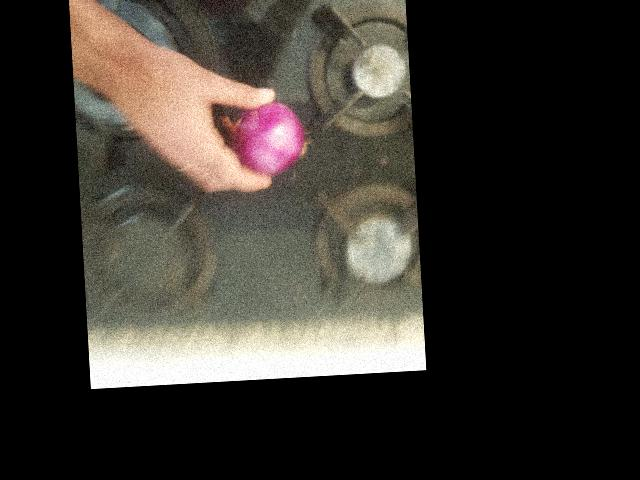onion: (283, 197, 348, 266)
